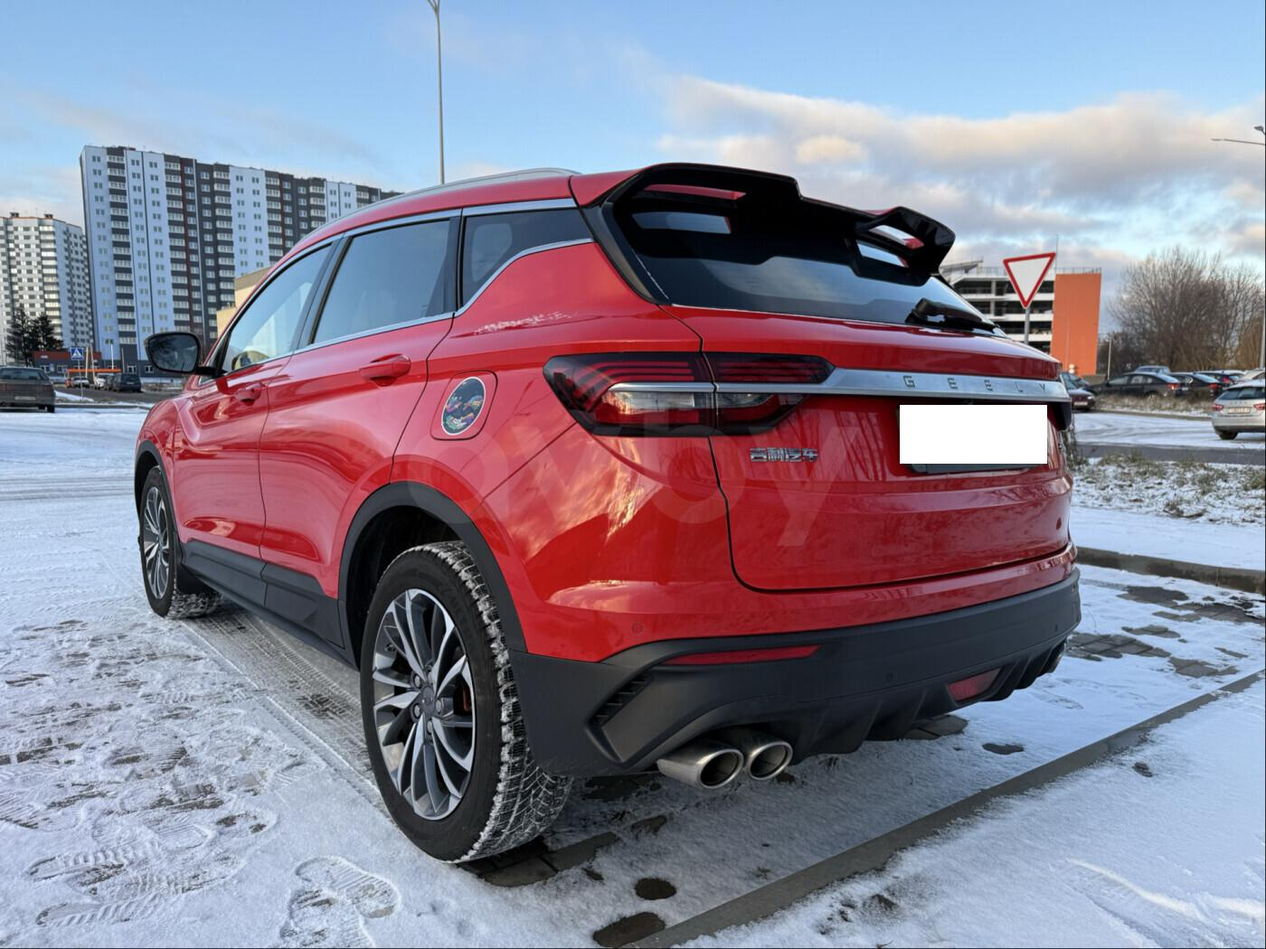Coolray_2019-2023: (128, 169, 1083, 862)
